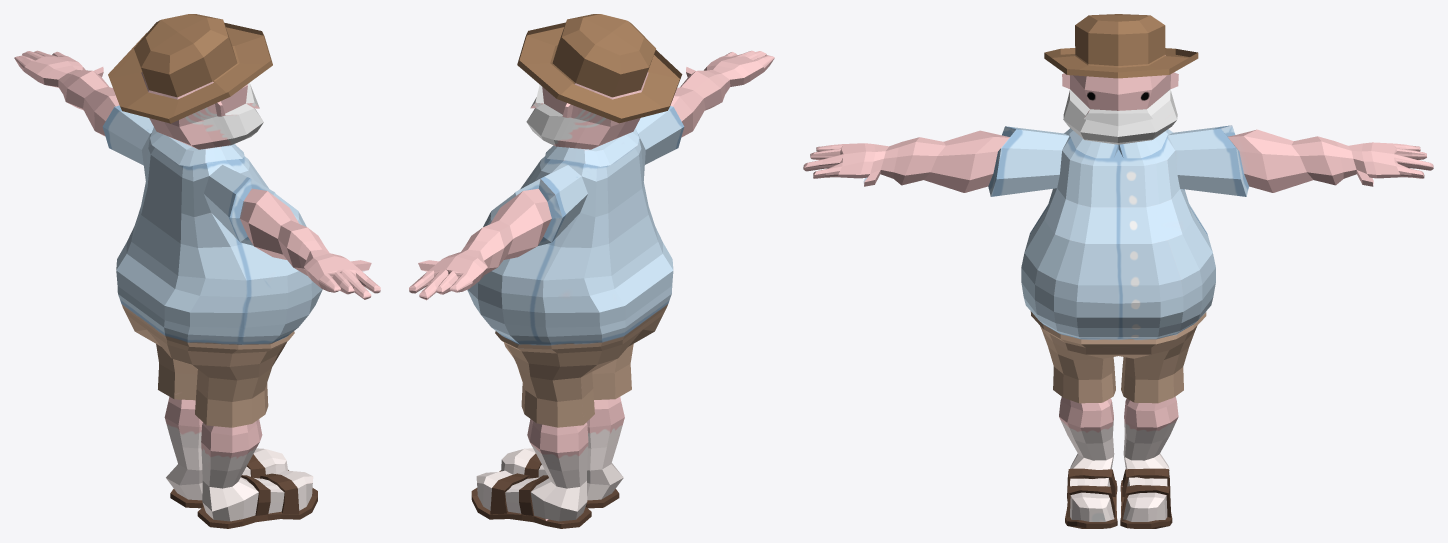
File: textured_grandpaModel.fbx
The picture shows the model from 3 angles, left to right: view 1: azimuth 30°, elevation 25°; view 2: azimuth 150°, elevation 25°; view 3: azimuth 270°, elevation 25°; orthographic projection. The views are drawn at different scales.
Parts seen in each view (by area): view 1: Plane, Plane.001; view 2: Plane, Plane.001; view 3: Plane, Plane.001.
Part boxes in pixels (x1,y1,x2,y2): Plane: [14, 50, 380, 528]; Plane.001: [108, 14, 272, 123]; Plane: [409, 50, 774, 528]; Plane.001: [517, 14, 682, 123]; Plane: [803, 55, 1433, 528]; Plane.001: [1044, 14, 1198, 78].
Size of the model in its own units: 379 by 119 by 312.
2 materials, 2 textured.
